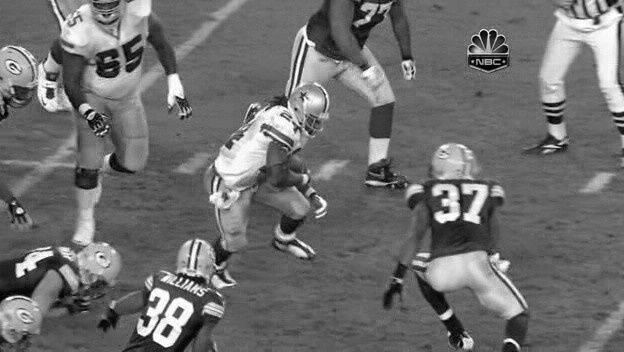person: (290, 85, 326, 135), (289, 85, 325, 135), (291, 85, 327, 135), (290, 84, 326, 134), (290, 86, 326, 136)
target_negative: (3, 153, 490, 322), (366, 94, 578, 280), (98, 145, 389, 268), (518, 192, 604, 244), (570, 143, 619, 234), (126, 287, 497, 293)
